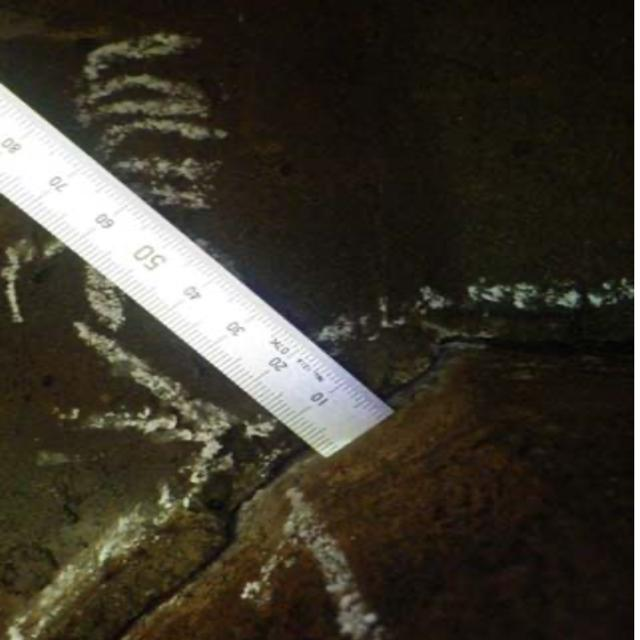crack: (54, 307, 613, 640)
